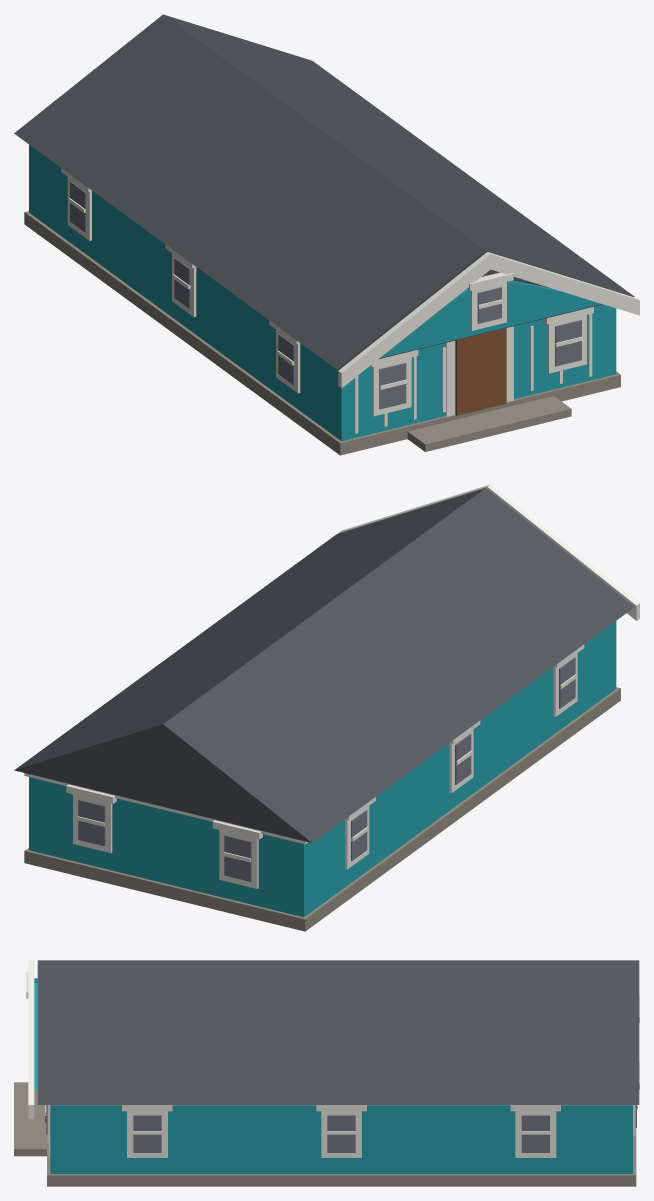
File: house-1x2-1f-valparaiso-a.glb
3 renders of one model, top to bottom at view 1: azimuth 30°, elevation 25°; view 2: azimuth 150°, elevation 25°; view 3: azimuth 270°, elevation 25°, orthographic. The views are drawn at different scales.
Parts seen in each view (by area): view 1: house-1x2-1f-valparaiso-a; view 2: house-1x2-1f-valparaiso-a; view 3: house-1x2-1f-valparaiso-a.
Part boxes in pixels (bbox=[...]): house-1x2-1f-valparaiso-a: bbox=[14, 14, 639, 455]; house-1x2-1f-valparaiso-a: bbox=[14, 484, 639, 931]; house-1x2-1f-valparaiso-a: bbox=[14, 960, 639, 1186].
Size of the model in its own units: 1.02 by 0.57 by 1.99.
1 material, 1 textured.
